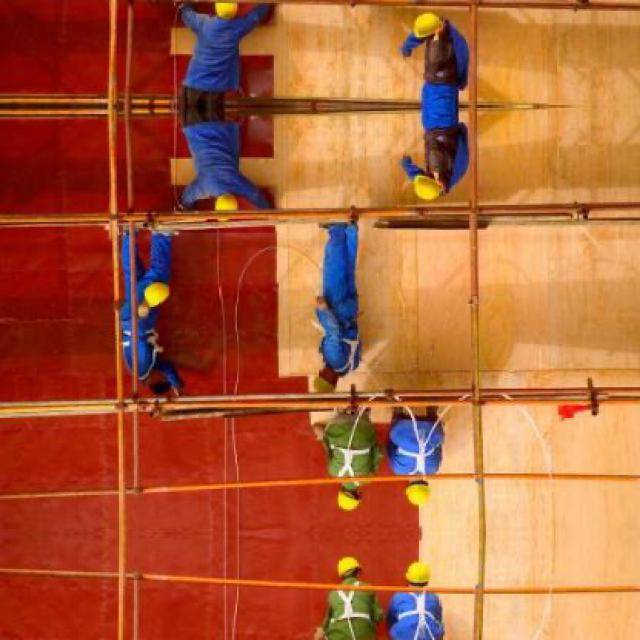con casco: (405, 158, 474, 213), (386, 464, 447, 518), (198, 185, 260, 232), (319, 479, 386, 514), (298, 349, 362, 385)
sin casco: (123, 349, 189, 418)
